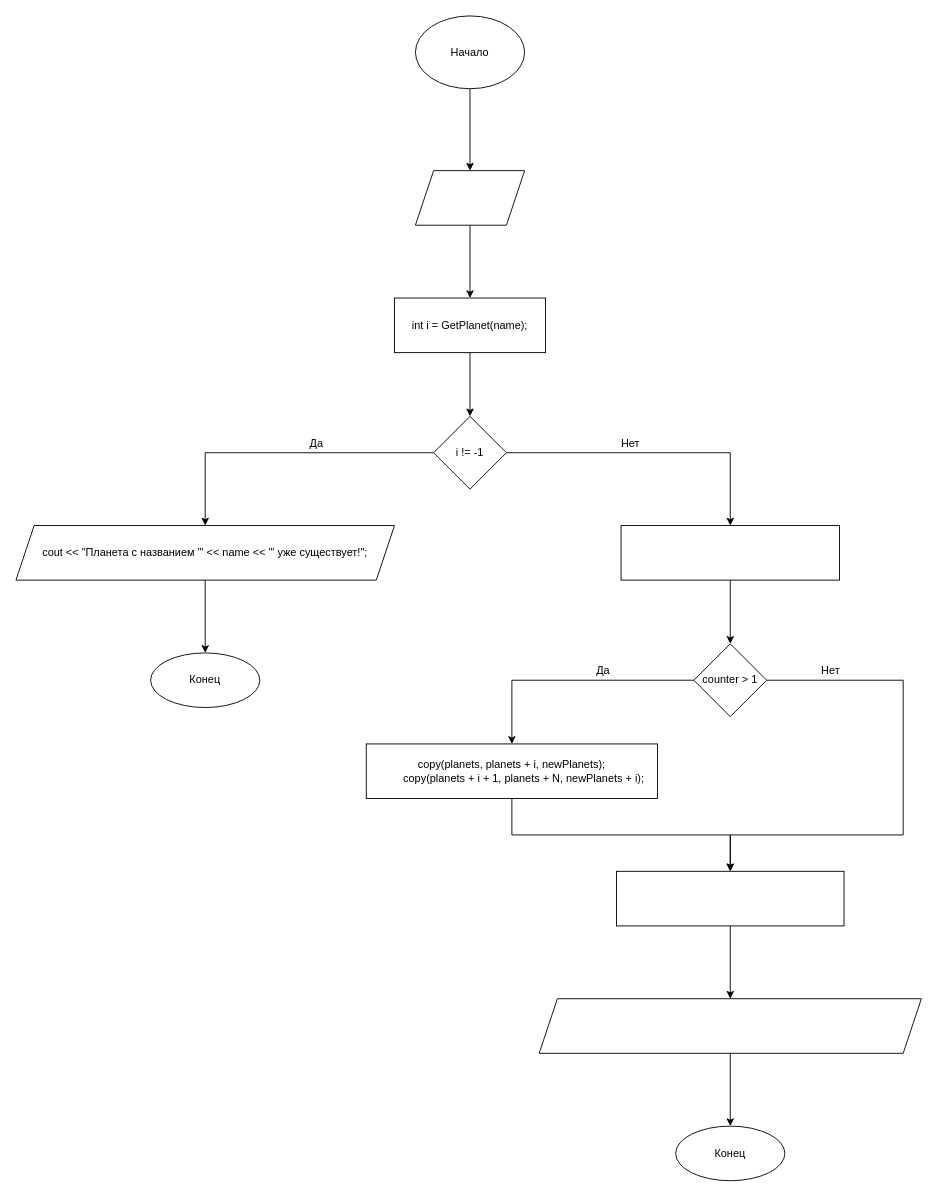
This 937x1197 diagram has some shape labels left out. Here are the shapes that lost their labels. From the top down, the centre of each, then its label:
(x=470, y=197): cin >> name;
(x=729, y=552): Planet* newPlanets = new Planet[N];
(x=730, y=898): delete[] planets; planets = newPlanets; counter--;
(x=729, y=1025): cout << "Планета '" << name << "' успешно удалена!'" << endl;
